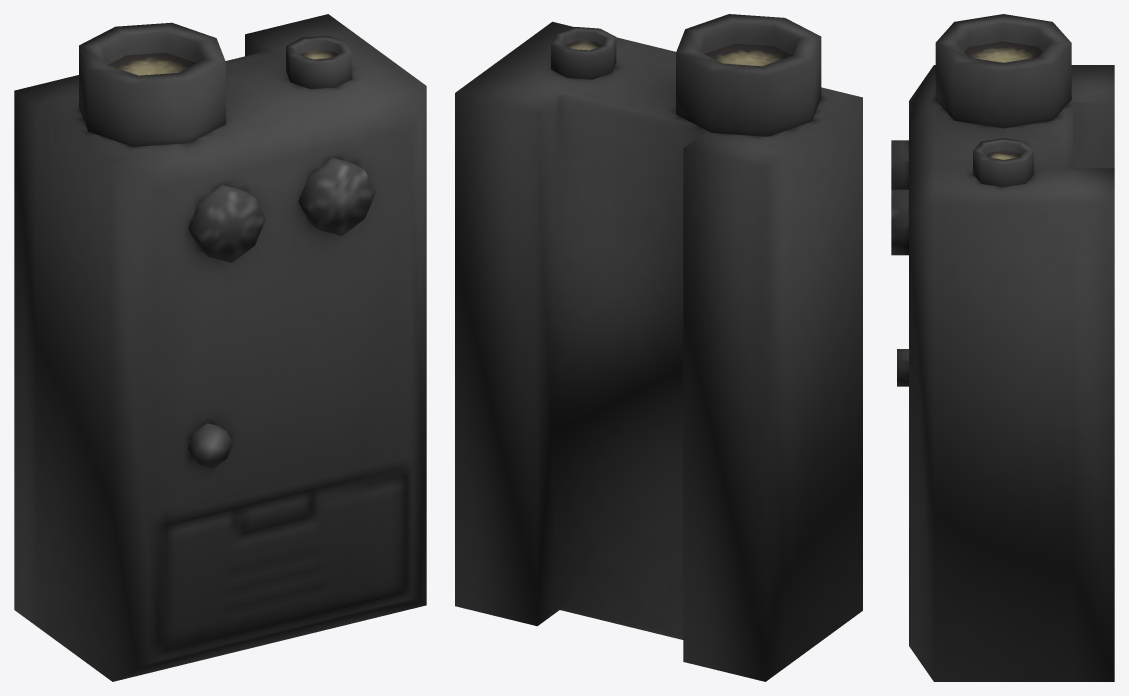
Rendered from TLOG_TacticalFlashlightLaser_ground.fbx.
3 views of the same model, side by side, from view 1: azimuth 30°, elevation 25°; view 2: azimuth 150°, elevation 25°; view 3: azimuth 270°, elevation 25° (orthographic). The views are drawn at different scales.
Parts seen in each view (by area): view 1: Cube; view 2: Cube; view 3: Cube.
Part boxes in pixels (bbox=[...]): Cube: bbox=[14, 14, 426, 681]; Cube: bbox=[455, 14, 862, 681]; Cube: bbox=[891, 14, 1114, 681].
Size of the model in its own units: 0.0248 by 0.0439 by 0.0166.
